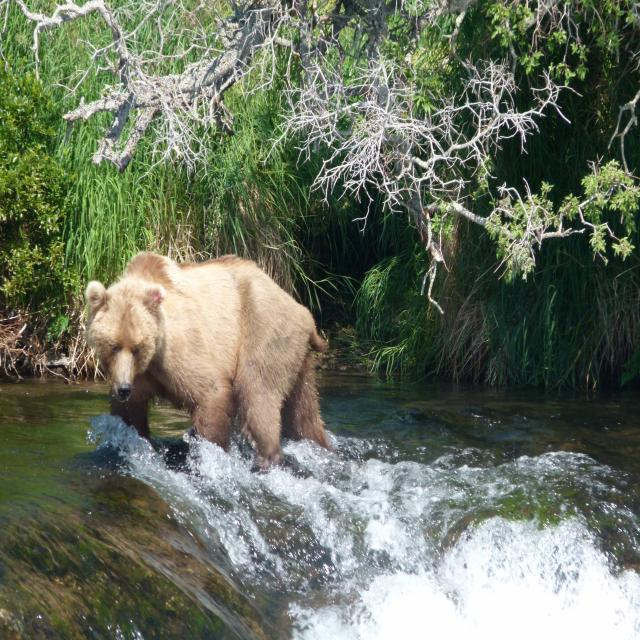bear face: (83, 253, 330, 453)
